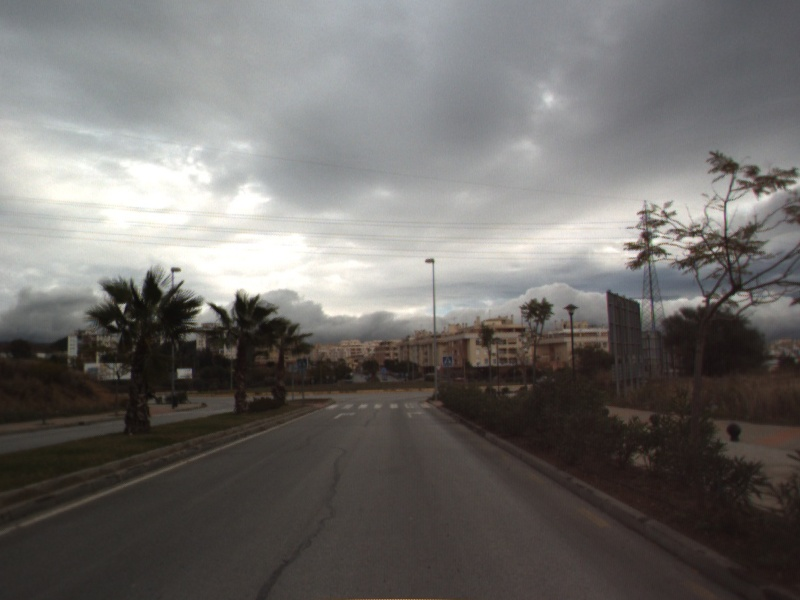RIGHT: (332, 410, 358, 421), (405, 409, 427, 420)
